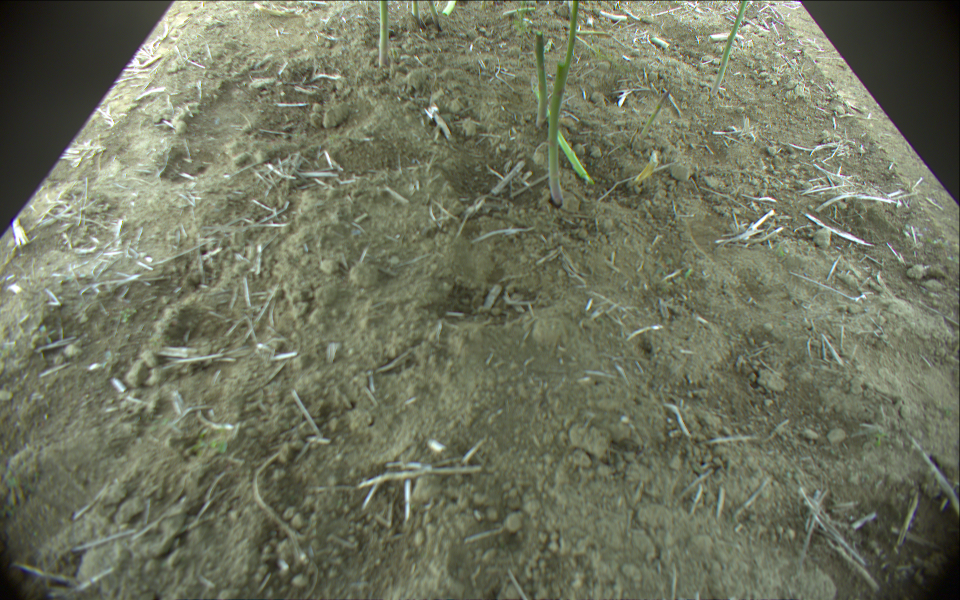aspa: (533, 88, 594, 185), (709, 1, 747, 96), (548, 61, 568, 206), (636, 86, 673, 140), (563, 1, 579, 68), (536, 31, 547, 124), (377, 1, 389, 69), (427, 1, 441, 27), (409, 1, 421, 22), (441, 1, 454, 16)
